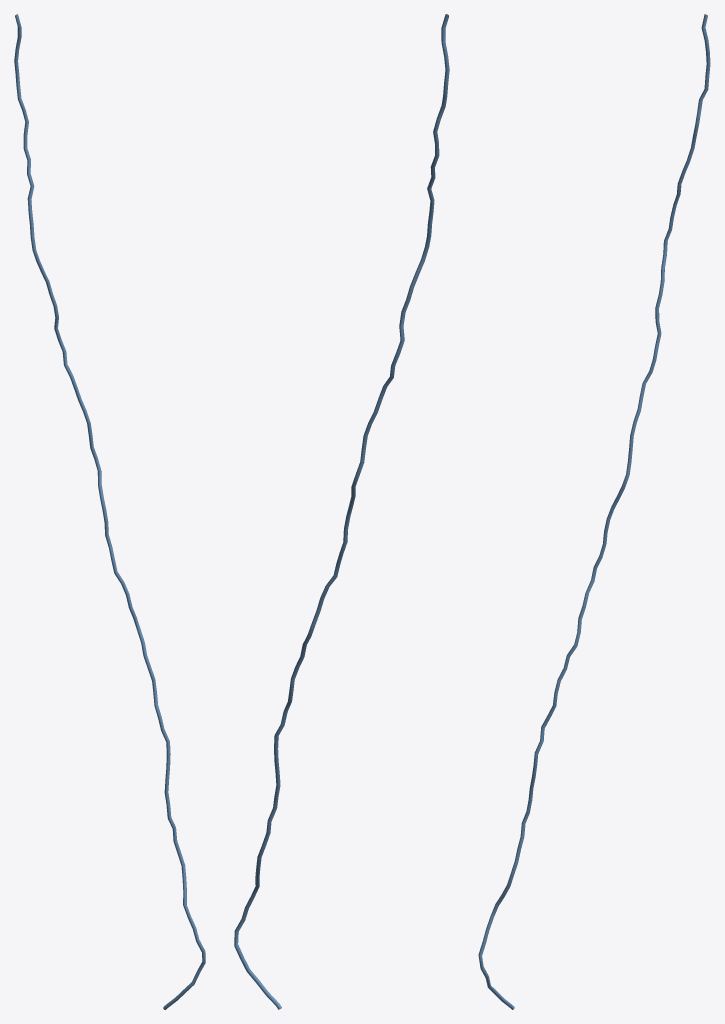
File: sweep302.fbx
3 renders of one model, left to right at view 1: azimuth 30°, elevation 25°; view 2: azimuth 210°, elevation 25°; view 3: azimuth 270°, elevation 25°, orthographic. The views are drawn at different scales.
Visible parts, largest first — view 1: sweep302; view 2: sweep302; view 3: sweep302.
Part boxes in pixels (x1,y1,x2,y2): sweep302: (14, 14, 205, 1009); sweep302: (234, 14, 449, 1009); sweep302: (478, 14, 710, 1009).
Bounding box in the file's own units: 0.5055 × 5.44 × 1.18.
